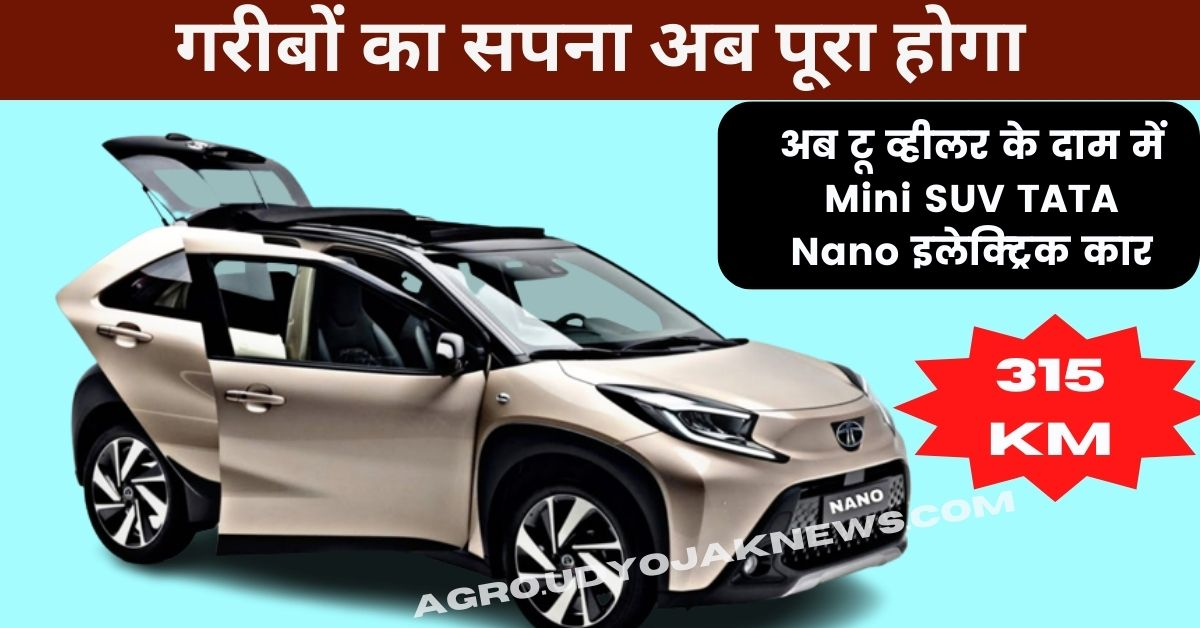Nano: (35, 134, 915, 628)
